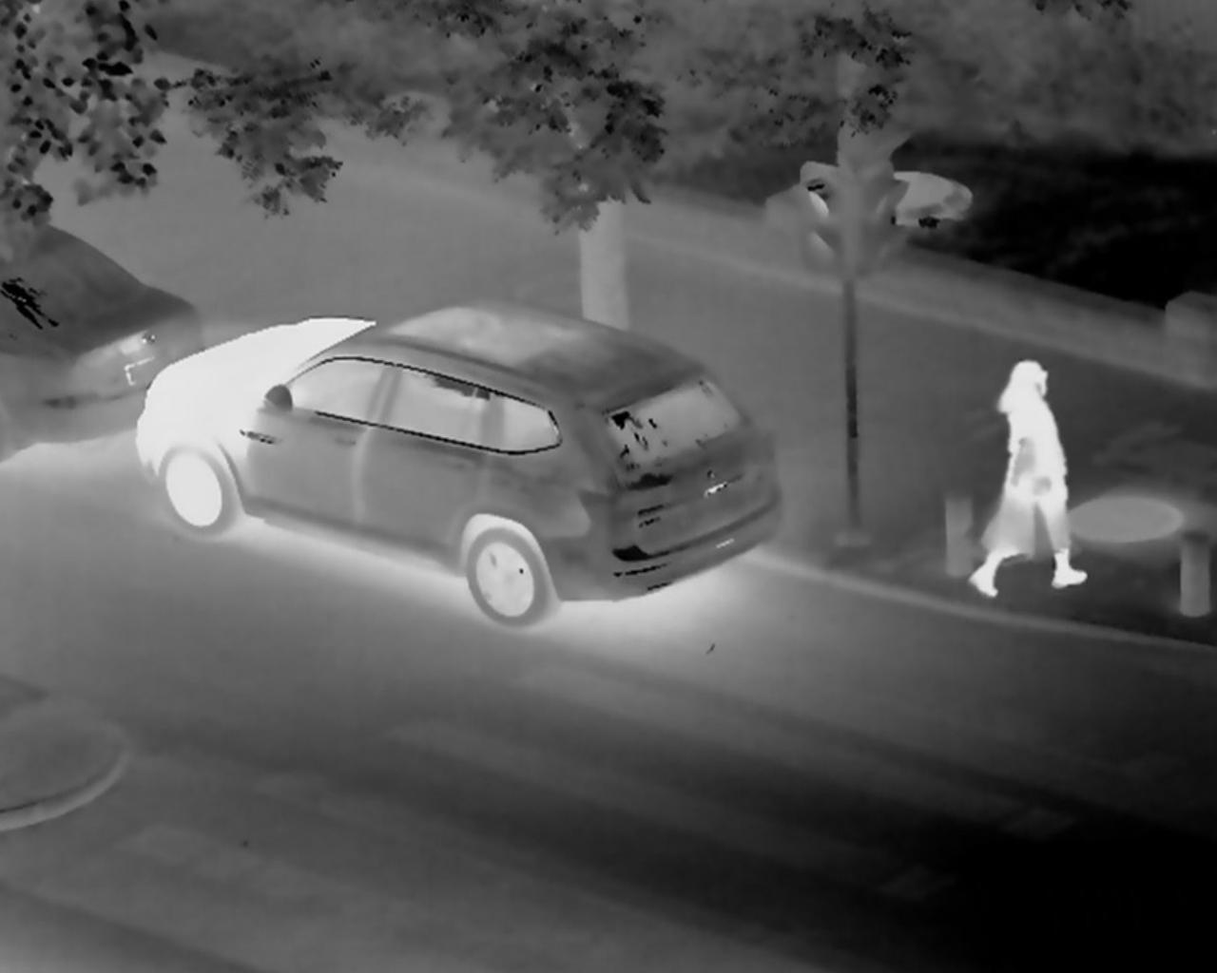person: (989, 344, 1095, 620)
